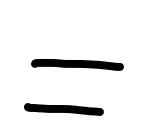eqv: (24, 59, 123, 117)
